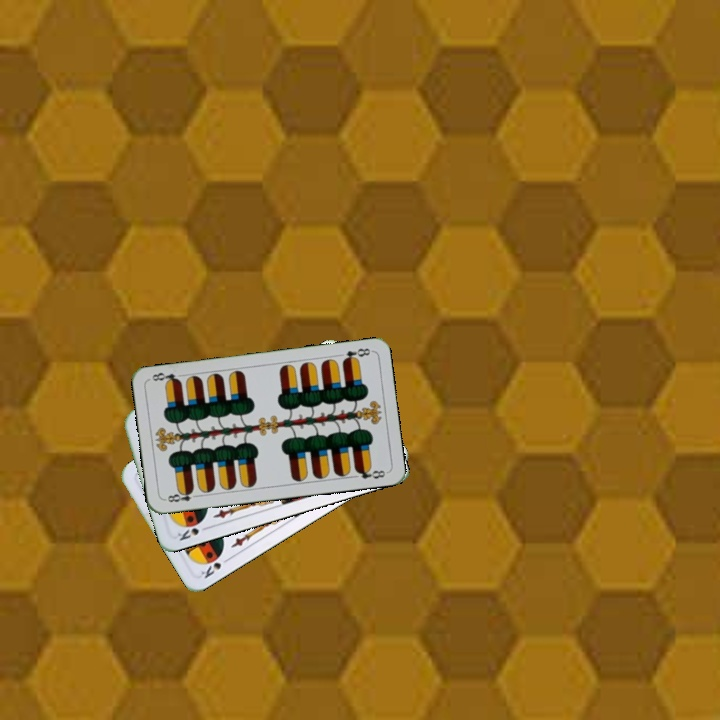E8: (161, 486, 202, 505), (339, 344, 374, 365)
SK: (173, 517, 212, 543), (197, 553, 233, 581)
